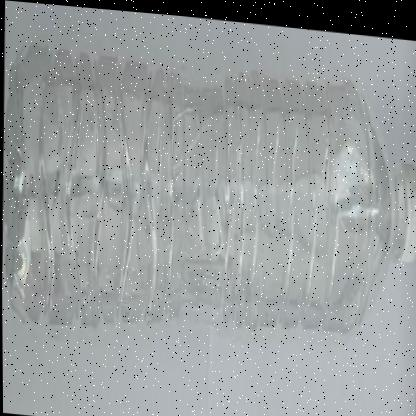bottle cap: (281, 55, 416, 364)
